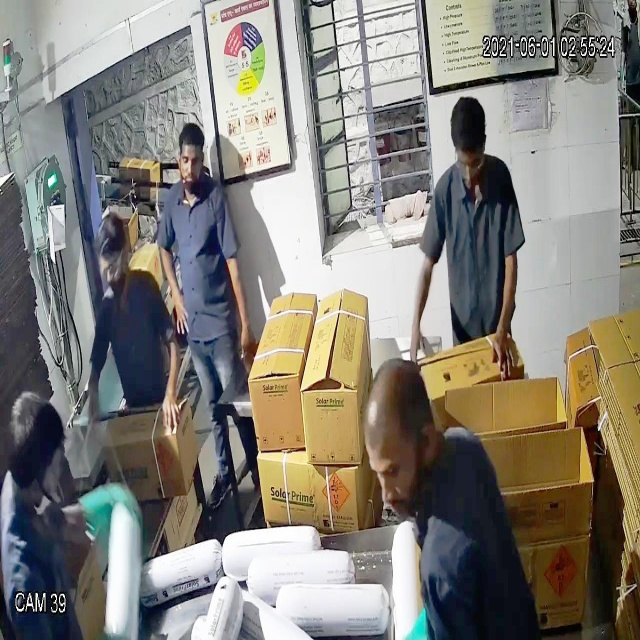Gafas: (448, 151, 493, 185), (96, 248, 128, 288)
